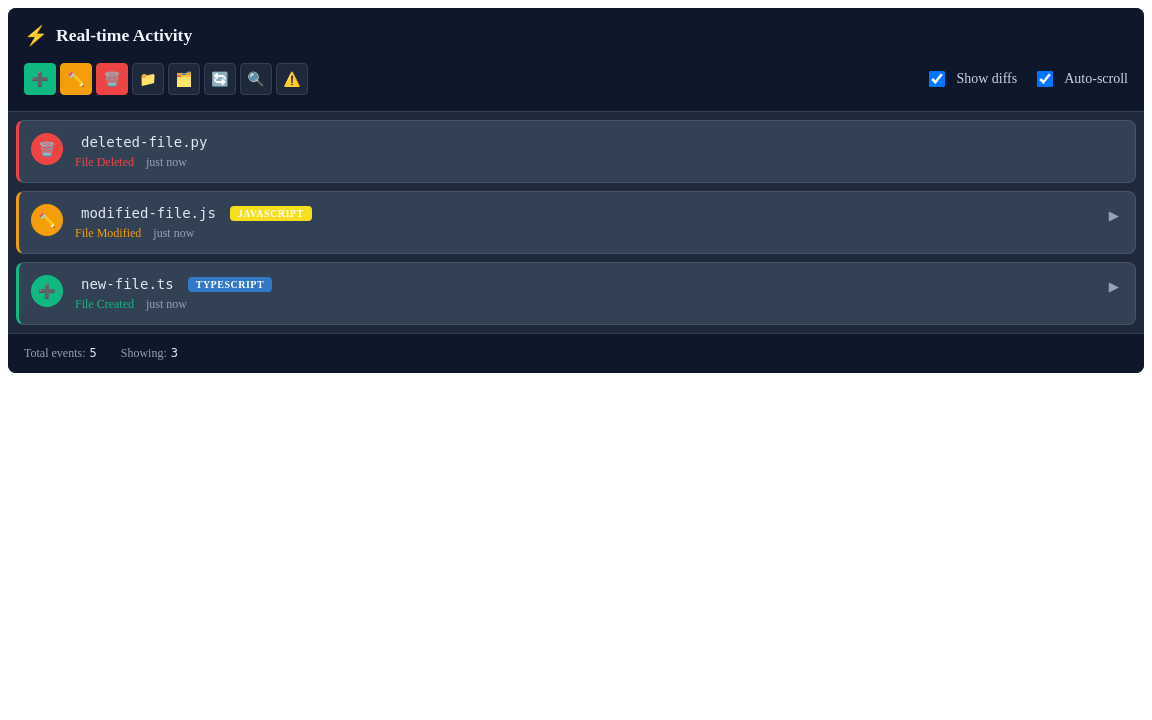
ActivityFeed Component › should expand event details when expand button is clicked
What coordinates should you click on to do the following:
click the 1st button with class "expand-button"
I would click on:
 (1114, 216)
Its box is x1=1105 y1=204 x2=1123 y2=227.
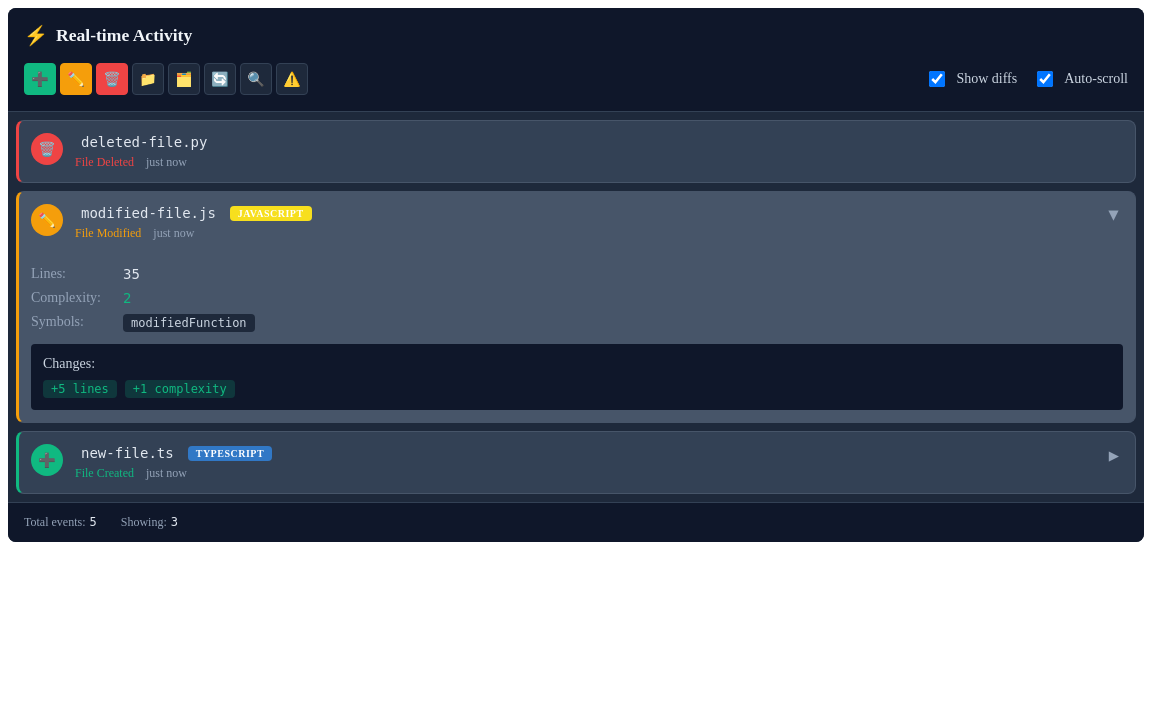
expect the element with class "event-details" is shown: met, box x1=31 y1=253 x2=1123 y2=410
expect the text "Lines:" is shown: met, box x1=31 y1=266 x2=66 y2=281
expect the text "Complexity:" is shown: met, box x1=31 y1=290 x2=111 y2=306
